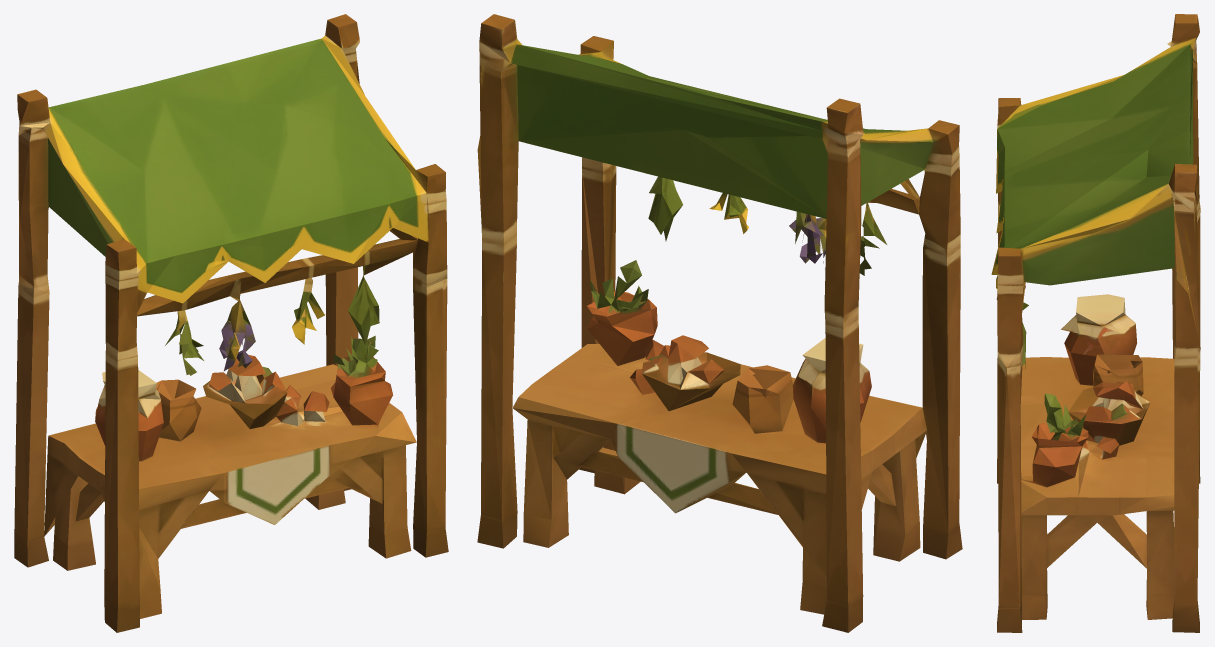
Rendered from TWN_PRP_stall_herb_A.glb.
The picture shows the model from 3 angles, left to right: view 1: azimuth 30°, elevation 25°; view 2: azimuth 150°, elevation 25°; view 3: azimuth 270°, elevation 25°; orthographic projection. The views are drawn at different scales.
Visible parts, largest first — view 1: Mesh_0; view 2: Mesh_0; view 3: Mesh_0.
Part boxes in pixels (left/top/right/bottom): Mesh_0: left=14, top=14, right=448, bottom=632; Mesh_0: left=477, top=14, right=962, bottom=632; Mesh_0: left=991, top=14, right=1200, bottom=632.
Size of the model in its own units: 1.46 by 1.9 by 0.7823.
Materials: 1 (1 with a texture image).
